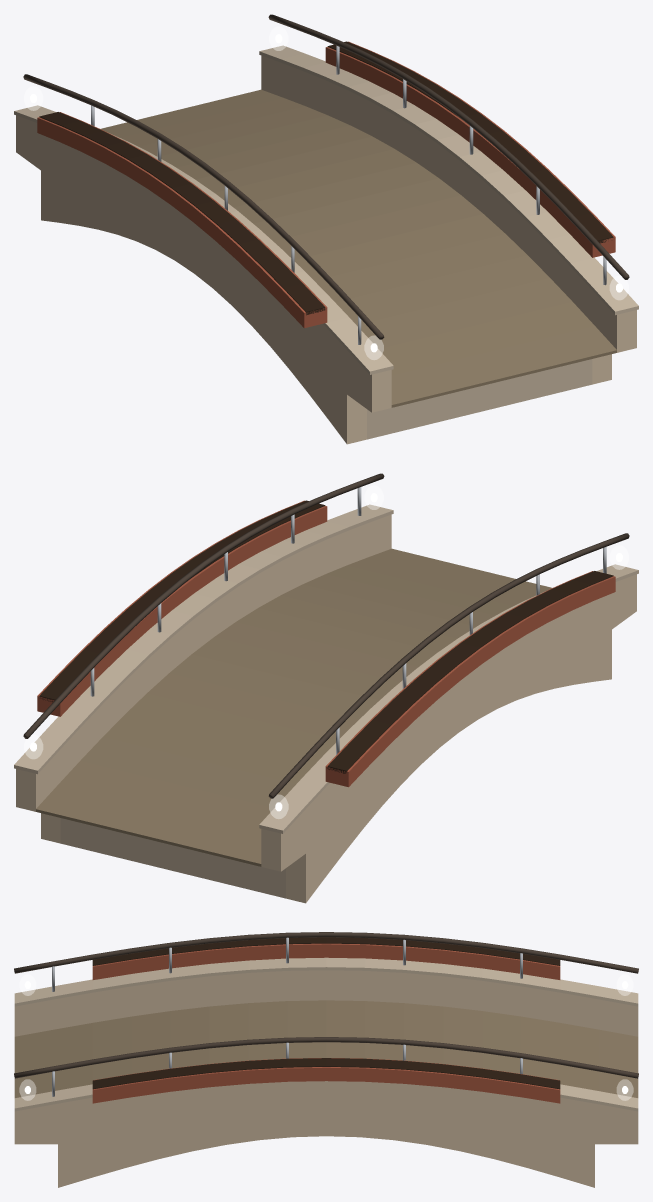
File: city_footbridge_planted_8.glb
The picture shows the model from 3 angles, top to bottom: view 1: azimuth 30°, elevation 25°; view 2: azimuth 150°, elevation 25°; view 3: azimuth 270°, elevation 25°; orthographic projection. The views are drawn at different scales.
Visible parts, largest first — view 1: CityFootbridgePlanted8_Deck, CityFootbridgePlanted8_Spandrel0.0, CityFootbridgePlanted8_Spandrel3.7, CityFootbridgePlanted8_Coping3.7, CityFootbridgePlanted8_Body, CityFootbridgePlanted8_Trough0.0, CityFootbridgePlanted8_TroughSoil0.0, CityFootbridgePlanted8_Trough3.7, CityFootbridgePlanted8_Coping0.0, CityFootbridgePlanted8_TroughSoil3.7, CityFootbridgePlanted8_Handrail0.0, CityFootbridgePlanted8_Handrail3.7; view 2: CityFootbridgePlanted8_Deck, CityFootbridgePlanted8_Spandrel0.0, CityFootbridgePlanted8_Spandrel3.7, CityFootbridgePlanted8_Coping3.7, CityFootbridgePlanted8_Body, CityFootbridgePlanted8_Trough0.0, CityFootbridgePlanted8_TroughSoil0.0, CityFootbridgePlanted8_Trough3.7, CityFootbridgePlanted8_Coping0.0, CityFootbridgePlanted8_TroughSoil3.7, CityFootbridgePlanted8_Handrail0.0, CityFootbridgePlanted8_Handrail3.7; view 3: CityFootbridgePlanted8_Spandrel3.7, CityFootbridgePlanted8_Deck, CityFootbridgePlanted8_Spandrel0.0, CityFootbridgePlanted8_Coping0.0, CityFootbridgePlanted8_Trough3.7, CityFootbridgePlanted8_Trough0.0, CityFootbridgePlanted8_TroughSoil3.7, CityFootbridgePlanted8_Handrail0.0, CityFootbridgePlanted8_Handrail3.7, CityFootbridgePlanted8_TroughSoil0.0, CityFootbridgePlanted8_Coping3.7.
Boxes of the visible parts, x1=… form: CityFootbridgePlanted8_Deck: x1=101, y1=89, x2=616, y2=407; CityFootbridgePlanted8_Spandrel0.0: x1=16, y1=115, x2=391, y2=444; CityFootbridgePlanted8_Spandrel3.7: x1=261, y1=55, x2=636, y2=384; CityFootbridgePlanted8_Coping3.7: x1=259, y1=45, x2=638, y2=315; CityFootbridgePlanted8_Body: x1=367, y1=359, x2=592, y2=439; CityFootbridgePlanted8_Trough0.0: x1=37, y1=112, x2=327, y2=328; CityFootbridgePlanted8_TroughSoil0.0: x1=39, y1=112, x2=325, y2=315; CityFootbridgePlanted8_Trough3.7: x1=325, y1=41, x2=615, y2=257; CityFootbridgePlanted8_Coping0.0: x1=14, y1=105, x2=393, y2=374; CityFootbridgePlanted8_TroughSoil3.7: x1=327, y1=41, x2=613, y2=243; CityFootbridgePlanted8_Handrail0.0: x1=23, y1=74, x2=384, y2=339; CityFootbridgePlanted8_Handrail3.7: x1=268, y1=14, x2=629, y2=279; CityFootbridgePlanted8_Deck: x1=36, y1=548, x2=551, y2=866; CityFootbridgePlanted8_Spandrel0.0: x1=261, y1=574, x2=636, y2=903; CityFootbridgePlanted8_Spandrel3.7: x1=16, y1=514, x2=391, y2=843; CityFootbridgePlanted8_Coping3.7: x1=14, y1=504, x2=393, y2=774; CityFootbridgePlanted8_Body: x1=60, y1=818, x2=285, y2=898; CityFootbridgePlanted8_Trough0.0: x1=325, y1=571, x2=615, y2=787; CityFootbridgePlanted8_TroughSoil0.0: x1=327, y1=571, x2=613, y2=773; CityFootbridgePlanted8_Trough3.7: x1=37, y1=500, x2=327, y2=716; CityFootbridgePlanted8_Coping0.0: x1=259, y1=564, x2=638, y2=833; CityFootbridgePlanted8_TroughSoil3.7: x1=39, y1=500, x2=325, y2=702; CityFootbridgePlanted8_Handrail0.0: x1=268, y1=533, x2=629, y2=798; CityFootbridgePlanted8_Handrail3.7: x1=23, y1=473, x2=384, y2=738; CityFootbridgePlanted8_Spandrel3.7: x1=14, y1=1081, x2=638, y2=1187; CityFootbridgePlanted8_Deck: x1=14, y1=1000, x2=638, y2=1097; CityFootbridgePlanted8_Spandrel0.0: x1=14, y1=970, x2=638, y2=1036; CityFootbridgePlanted8_Coping0.0: x1=14, y1=957, x2=638, y2=1006; CityFootbridgePlanted8_Trough3.7: x1=92, y1=1058, x2=560, y2=1103; CityFootbridgePlanted8_Trough0.0: x1=92, y1=943, x2=560, y2=979; CityFootbridgePlanted8_TroughSoil3.7: x1=92, y1=1058, x2=560, y2=1089; CityFootbridgePlanted8_Handrail0.0: x1=14, y1=932, x2=638, y2=973; CityFootbridgePlanted8_Handrail3.7: x1=14, y1=1037, x2=638, y2=1078; CityFootbridgePlanted8_TroughSoil0.0: x1=92, y1=937, x2=560, y2=965; CityFootbridgePlanted8_Coping3.7: x1=14, y1=1084, x2=638, y2=1111.
Bounding box in the file's own units: 4.7 × 2.41 × 9.32.
